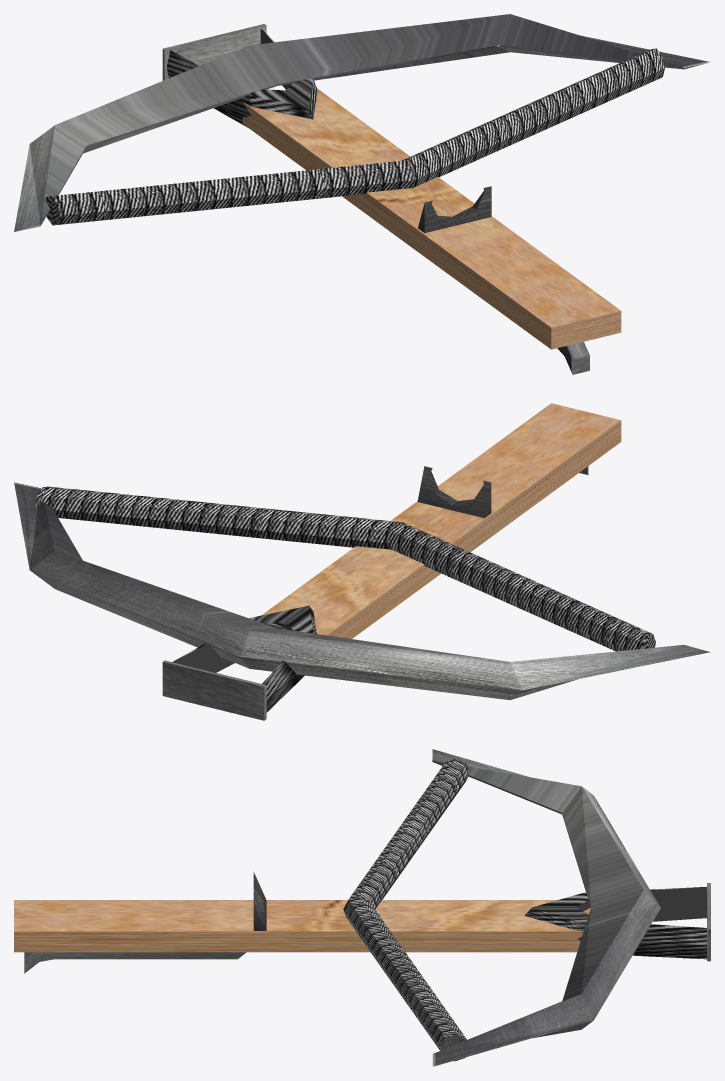
Rendered from Crossbow13.obj.
3 views of the same model, one above another, from view 1: azimuth 30°, elevation 25°; view 2: azimuth 150°, elevation 25°; view 3: azimuth 270°, elevation 25° (orthographic). The views are drawn at different scales.
Parts seen in each view (by area): view 1: Sphere; view 2: Sphere; view 3: Sphere.
Part boxes in pixels (left/top/right/bottom): Sphere: left=14, top=14, right=710, bottom=374; Sphere: left=14, top=403, right=710, bottom=720; Sphere: left=14, top=749, right=710, bottom=1066.
Size of the model in its own units: 5.04 by 0.6142 by 4.67.
